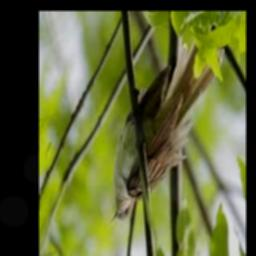Cuckoo: (110, 43, 224, 225)
